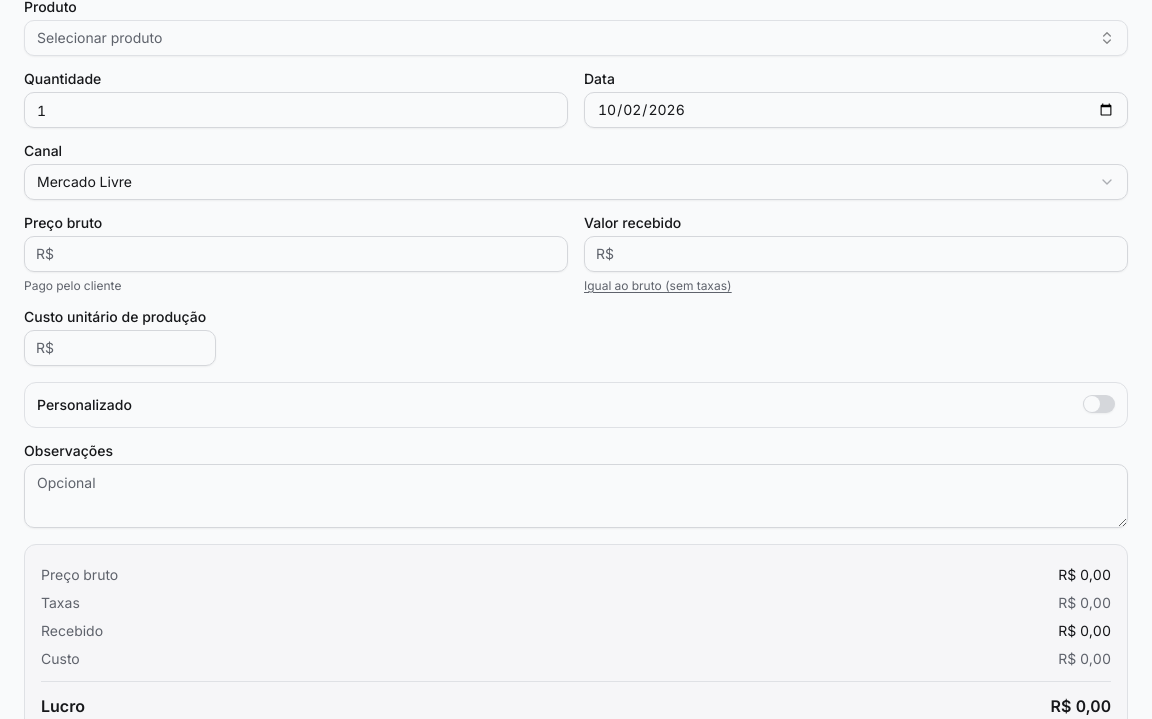
SaleForm › recalculates gross and cost when the quantity changes
Click the dropdown labelled "produto".
click(100, 38)  # box [24,20,1128,56]
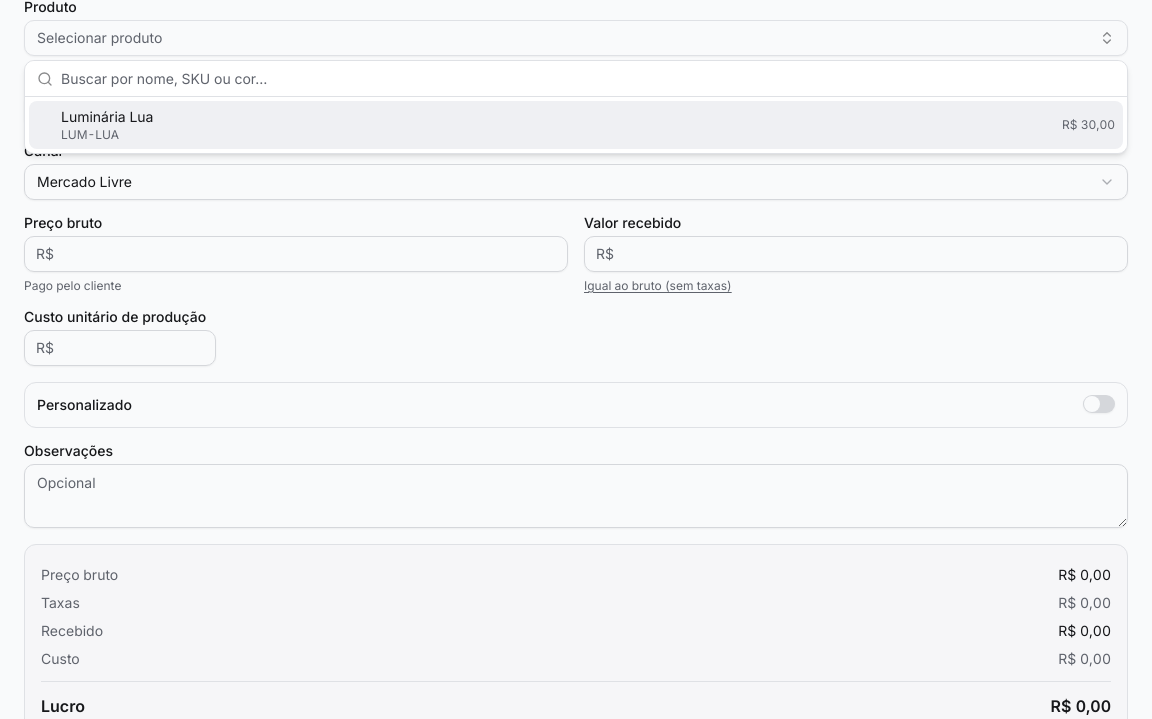
Click the text "Luminária Lua".
click(107, 116)  # box [61,108,154,125]
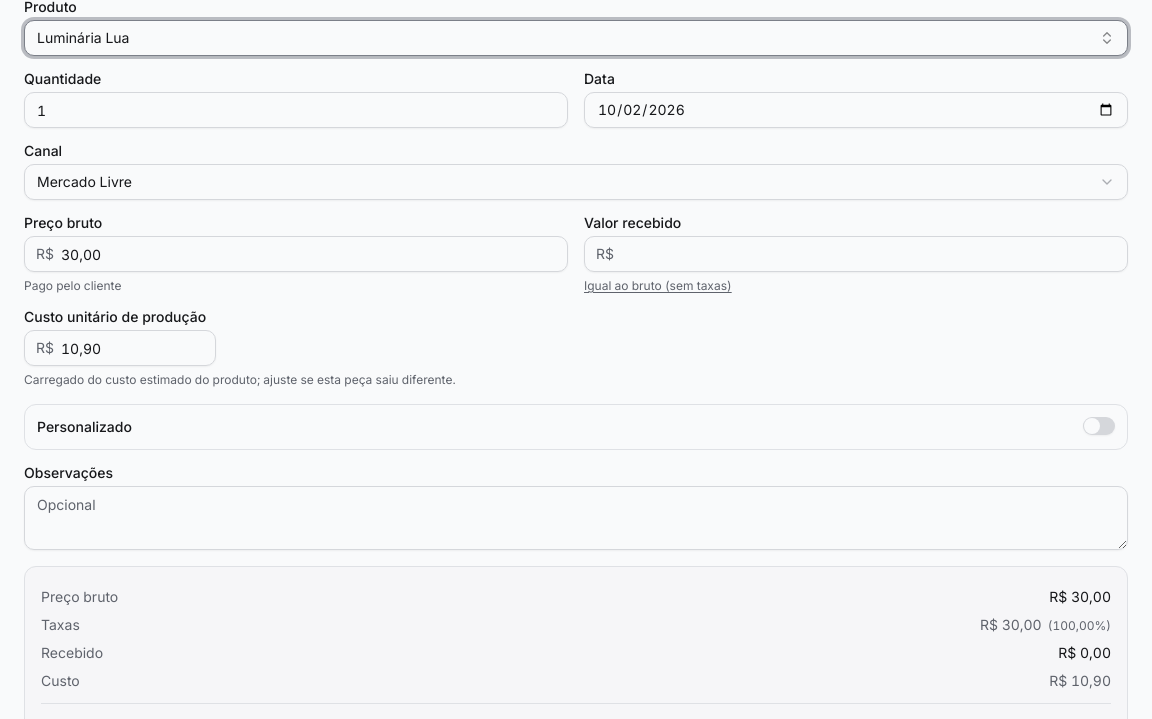
Replace the text in the number field labelled "Quantidade" with "2" at (296, 110), box [24,92,568,128]
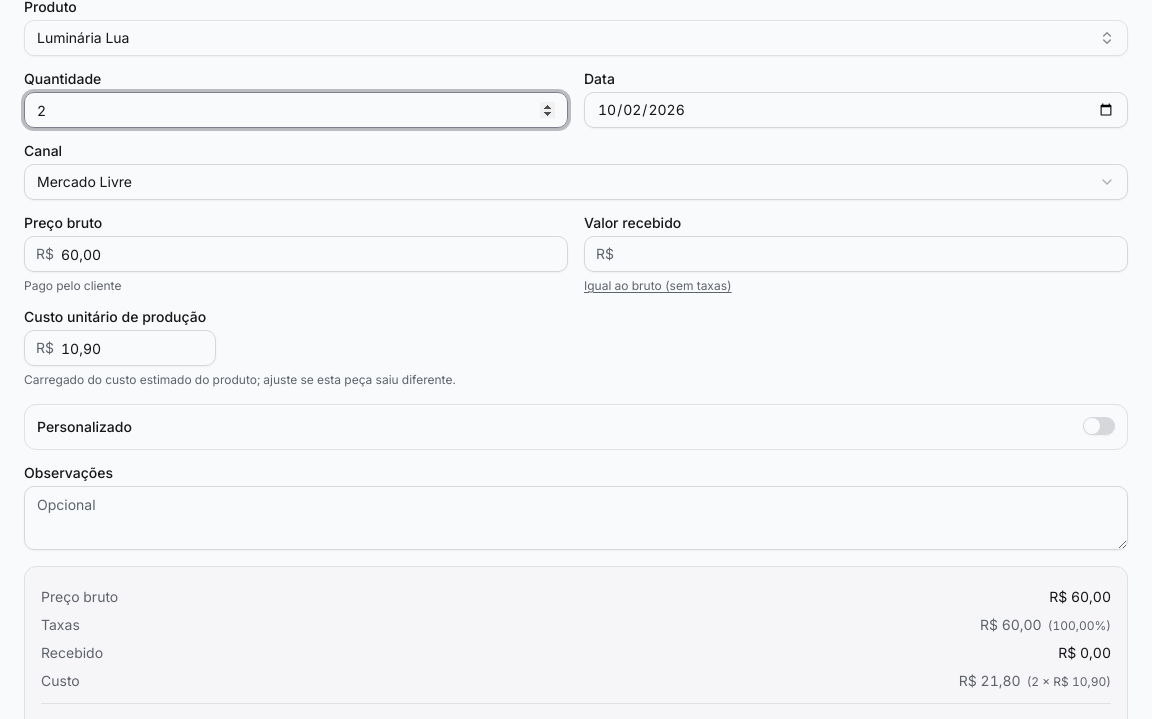
Expected: the field labelled "Preço bruto" holds "60,00", [24,236,568,272]
